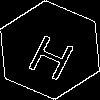H: (25, 25, 82, 82)
